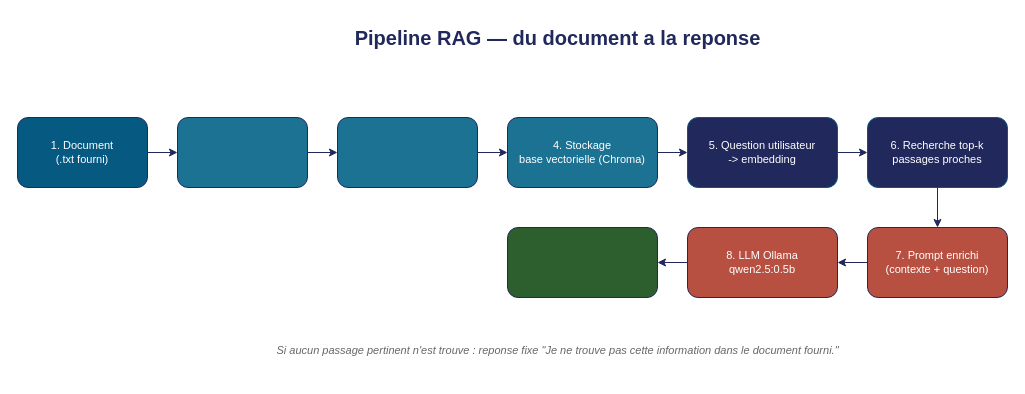
Some shapes in this 1025 by 394 pixel diagram are drawn without their labels. Each missing label, with the centre of its shape:
"2. Decoupage en passages (chunks)" belongs at point 242,152.
"3. Embeddings (sentence-transformers)" belongs at point 407,152.
"9. Reponse + sources affichees" belongs at point 582,262.
